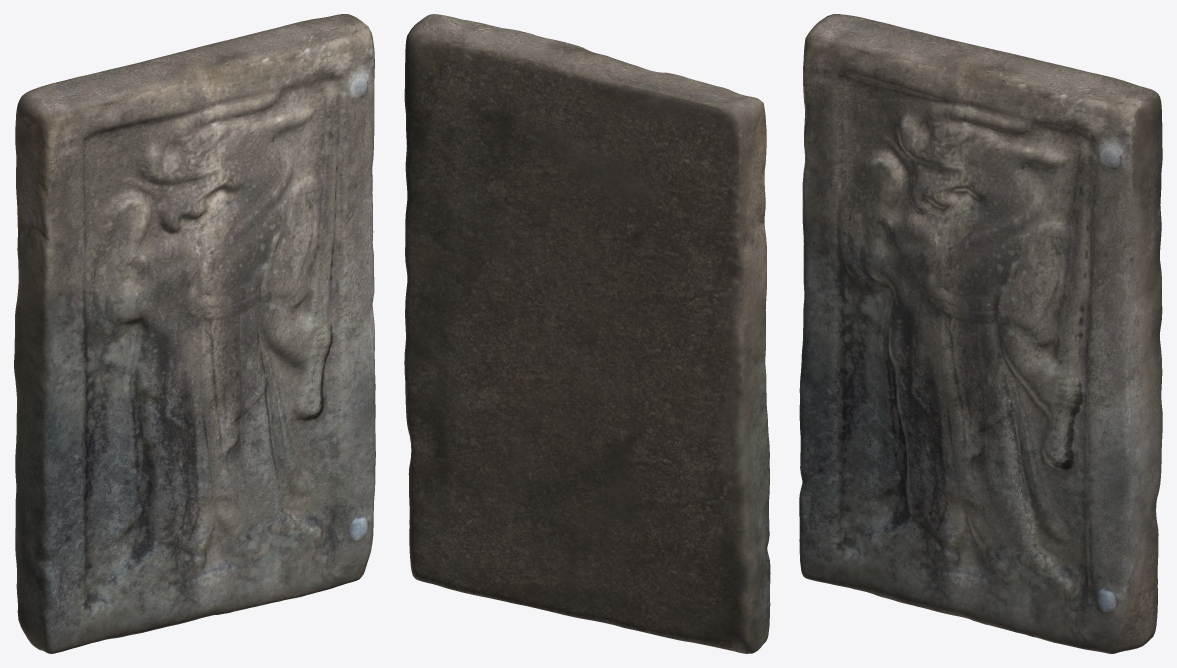
3 renders of one model, left to right at view 1: azimuth 30°, elevation 25°; view 2: azimuth 150°, elevation 25°; view 3: azimuth 330°, elevation 25°, orthographic.
Visible parts, largest first — view 1: Object_2; view 2: Object_2; view 3: Object_2.
Boxes of the visible parts, box(x1,y1,x2,y2) form: Object_2: box(14, 14, 375, 653); Object_2: box(404, 14, 770, 653); Object_2: box(799, 14, 1162, 653).
Bounding box in the file's own units: 0.6308 × 0.9771 × 0.1335.
1 material, 1 textured.
